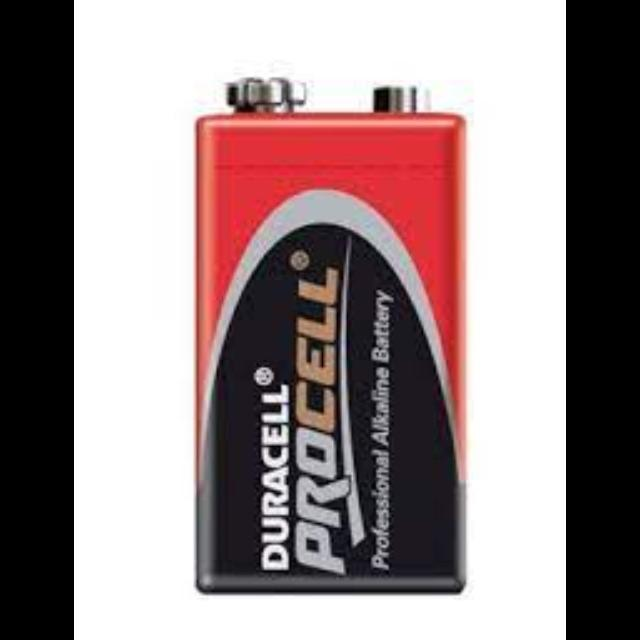Battery: (196, 78, 469, 595)
